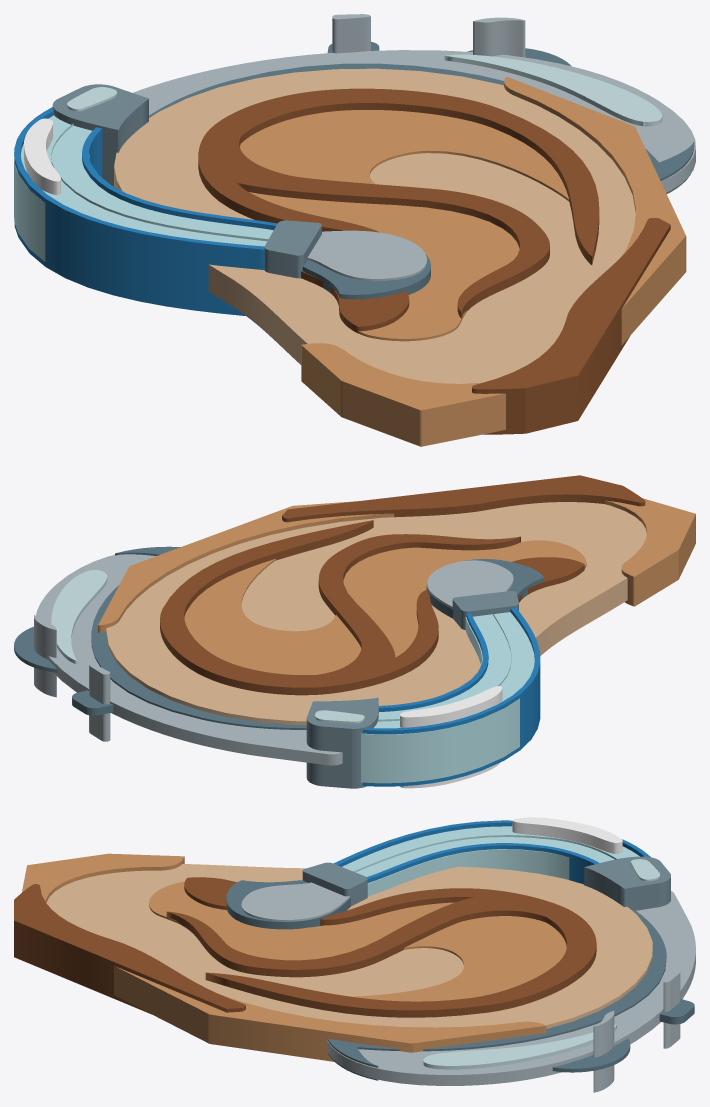
File: emoji_u1f9bb_1f3fc.glb
The picture shows the model from 3 angles, top to bottom: view 1: azimuth 30°, elevation 25°; view 2: azimuth 150°, elevation 25°; view 3: azimuth 270°, elevation 25°; orthographic projection. The views are drawn at different scales.
Visible parts, largest first — view 1: emoji_u1f9bb_1f3fc; view 2: emoji_u1f9bb_1f3fc; view 3: emoji_u1f9bb_1f3fc.
Part boxes in pixels (left/top/right/bottom): emoji_u1f9bb_1f3fc: left=14, top=14, right=695, bottom=446; emoji_u1f9bb_1f3fc: left=14, top=475, right=695, bottom=788; emoji_u1f9bb_1f3fc: left=14, top=817, right=695, bottom=1092.
Size of the model in its own units: 0.0271 by 0.0038 by 0.0336.
